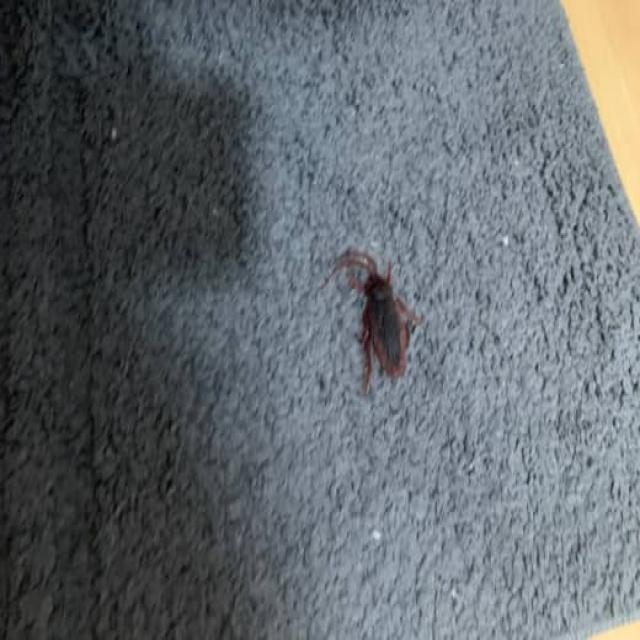Cockroach: (326, 240, 425, 396)
